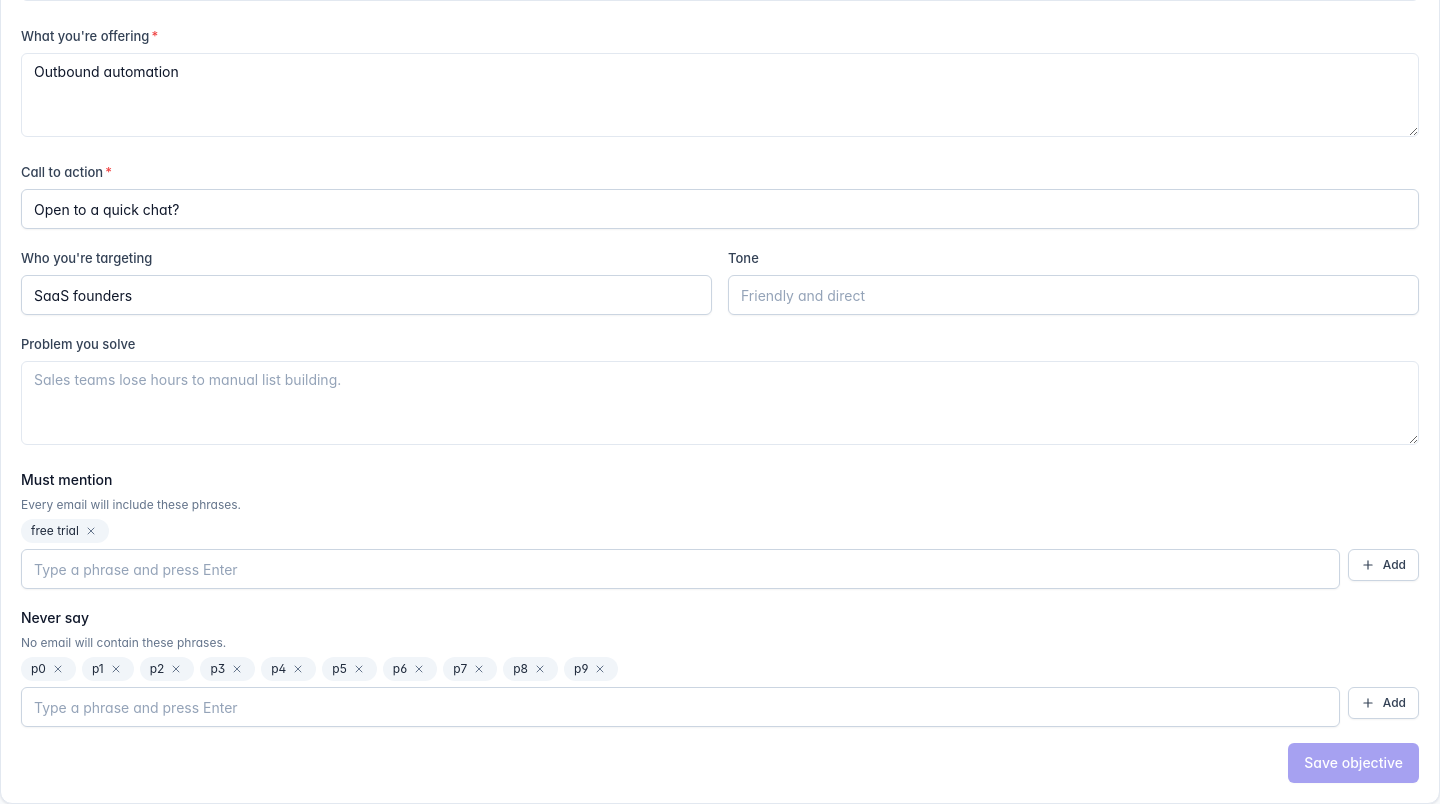
Test case: ObjectiveForm › limits a phrase list to ten entries
This screenshot has width=1440, height=804.
(page scrolled)
Type "one more" into the field with placeholder "Type a phrase and press Enter" at (680, 707), box [21,687,1340,727]
Then press Enter
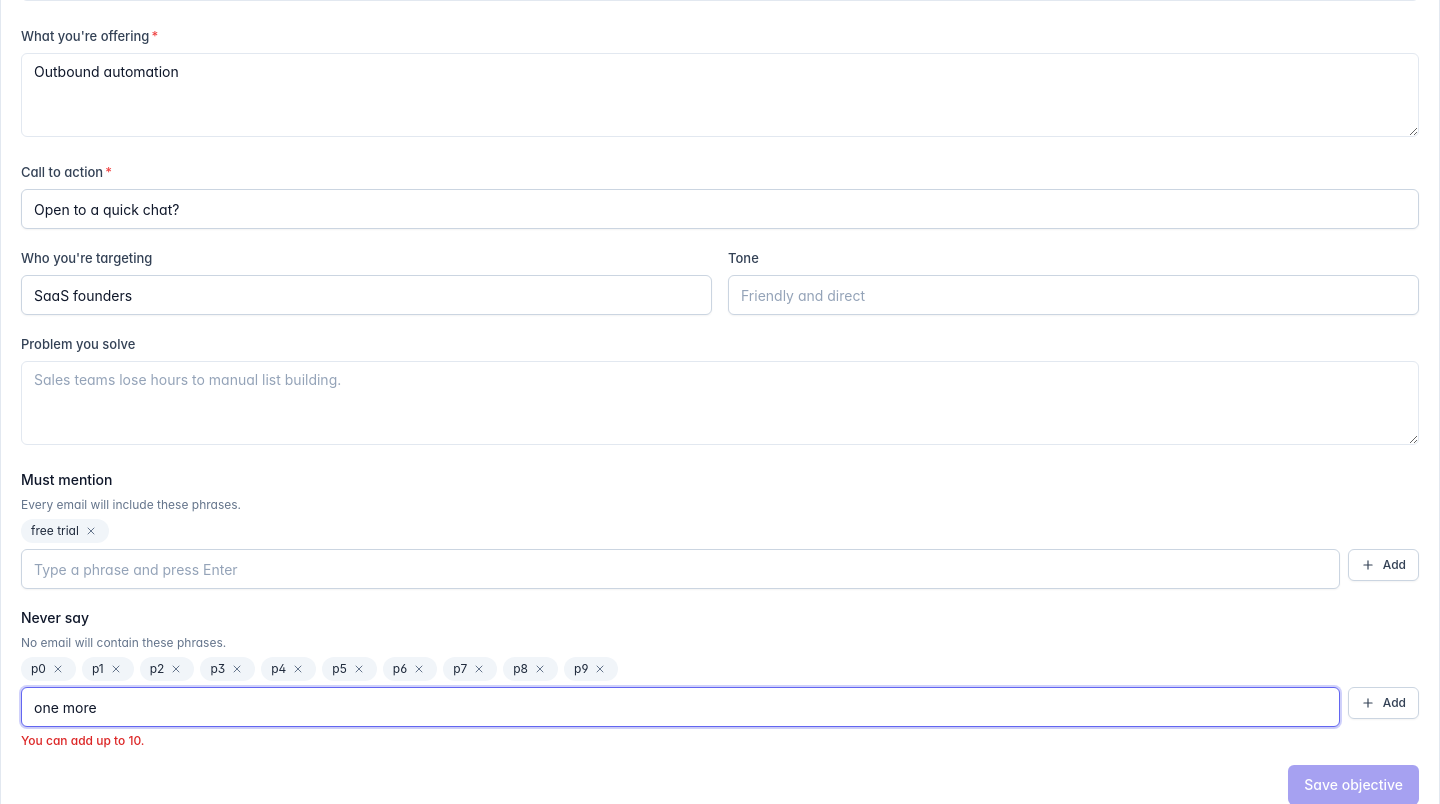
Result: the message shows "up to 10" at [21,733,144,748]
